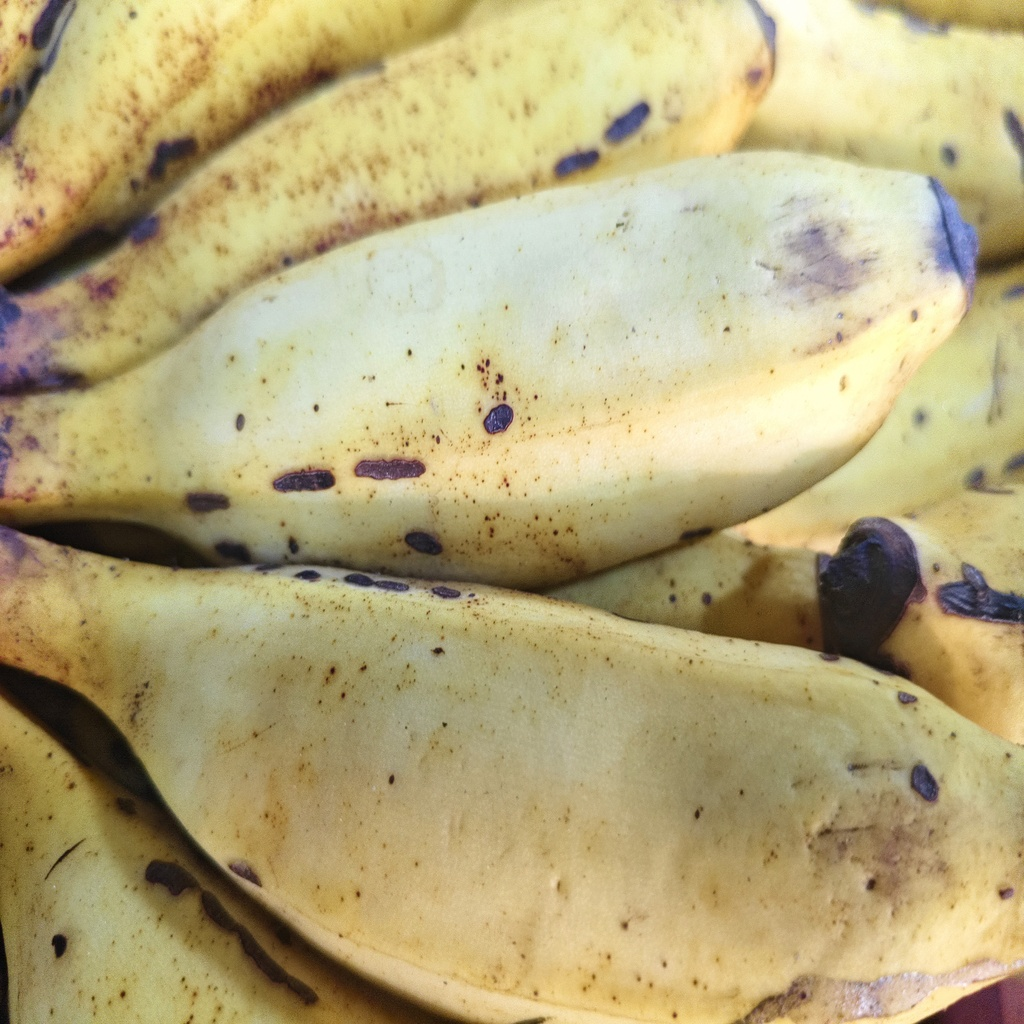unhealthy: (136, 561, 1024, 1021), (125, 157, 964, 572)
